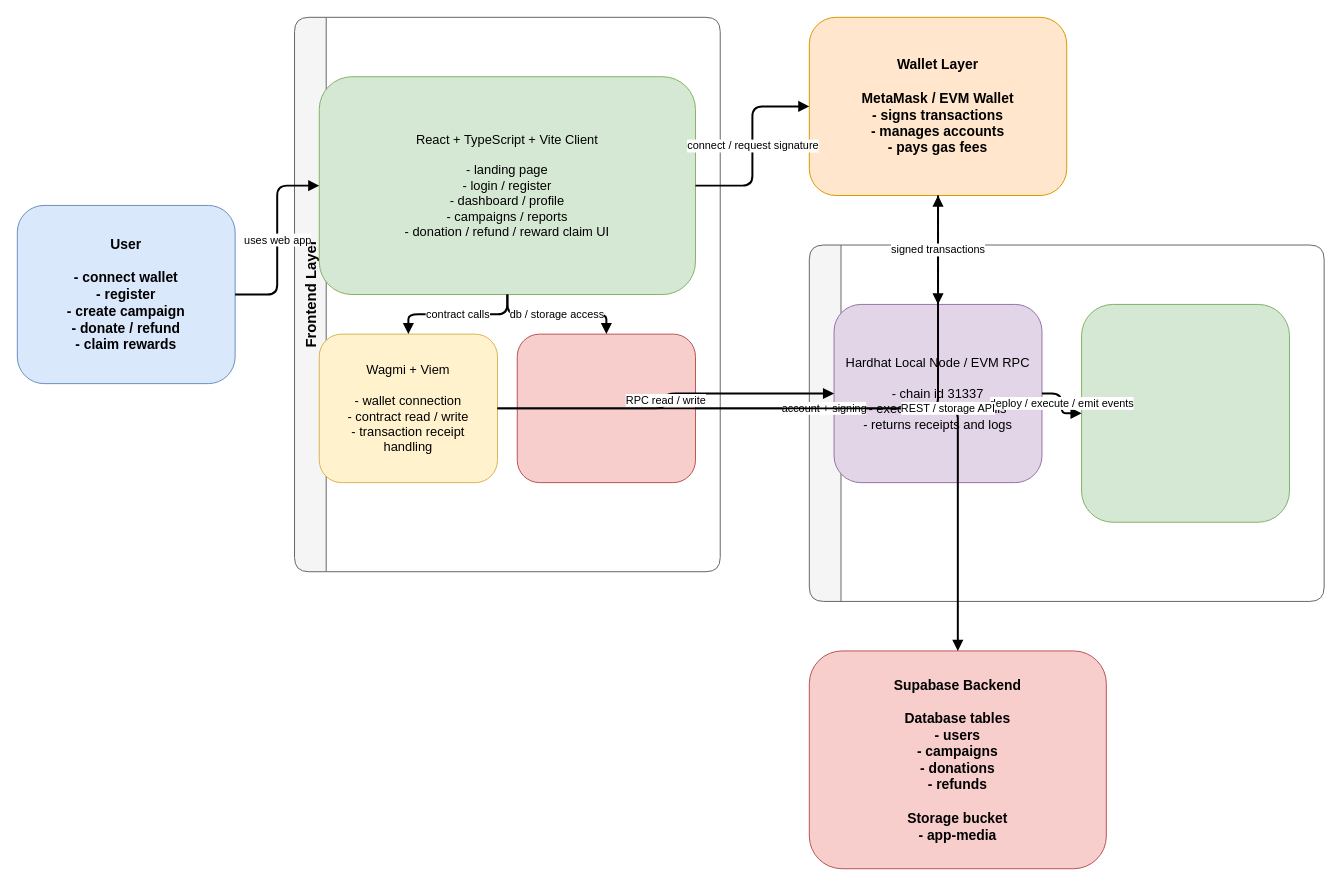
The diagram is 1341 pixels wide and 886 high, and some of its shapes have lost their labels. The shapes that lost their labels are listed below. From the top down, each one's box as (x1, y1, x2, y2) in pixels, then its label:
(516, 333, 695, 483): Supabase Client - users - campaigns - donations - refunds - app-media storage
(808, 244, 1324, 601): Blockchain Layer
(1081, 303, 1289, 522): Smart Contracts CampaignFactory Campaign UserRegistry RewardManager RewardToken
